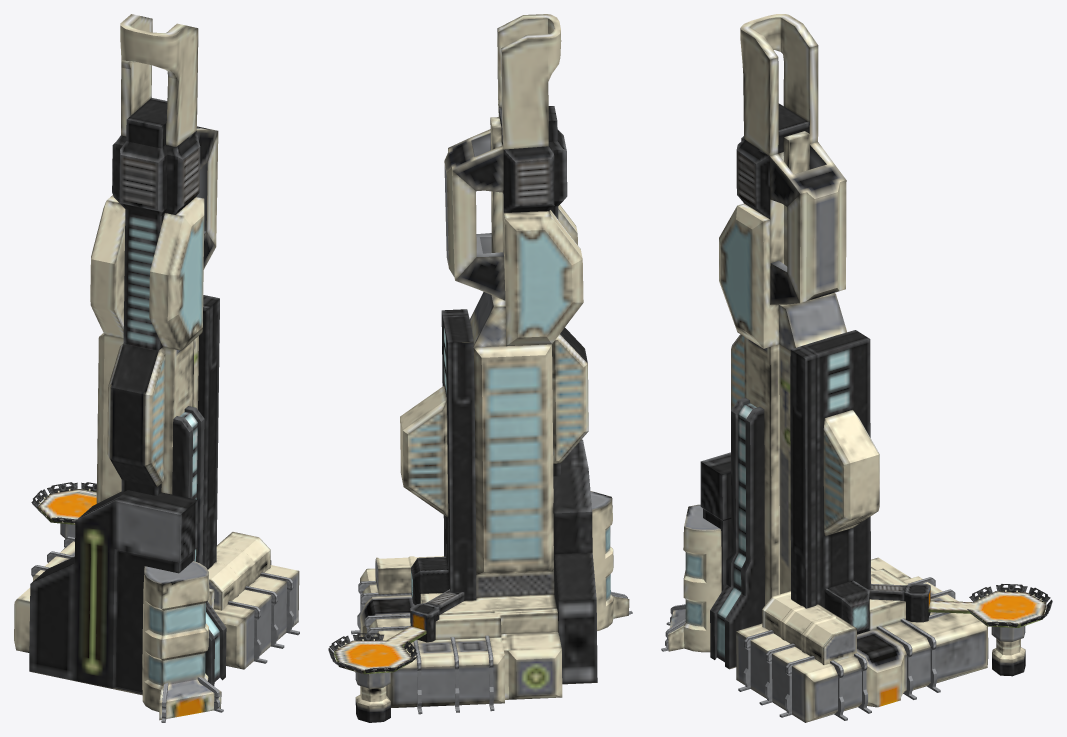
Rendered from ftaa.obj.
The picture shows the model from 3 angles, left to right: view 1: azimuth 30°, elevation 25°; view 2: azimuth 150°, elevation 25°; view 3: azimuth 270°, elevation 25°; orthographic projection. The views are drawn at different scales.
Parts seen in each view (by area): view 1: Object001_Mesh.001; view 2: Object001_Mesh.001; view 3: Object001_Mesh.001.
Boxes of the visible parts, bbox=[...] form: Object001_Mesh.001: bbox=[14, 14, 299, 722]; Object001_Mesh.001: bbox=[328, 14, 632, 722]; Object001_Mesh.001: bbox=[661, 14, 1052, 722].
Size of the model in its own units: 4 by 9.59 by 5.48.
1 material, 1 textured.
